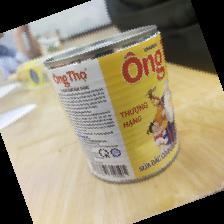Ong_tho: (41, 23, 182, 186)
